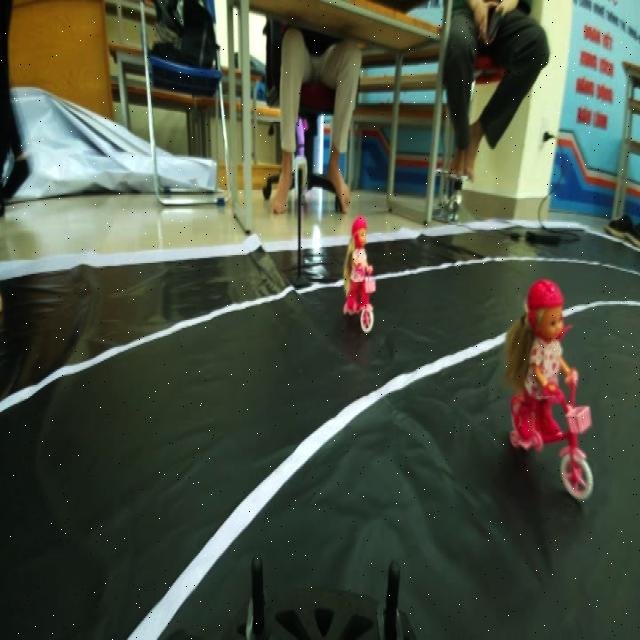pedestrian: (506, 269, 594, 496), (338, 222, 386, 332)
